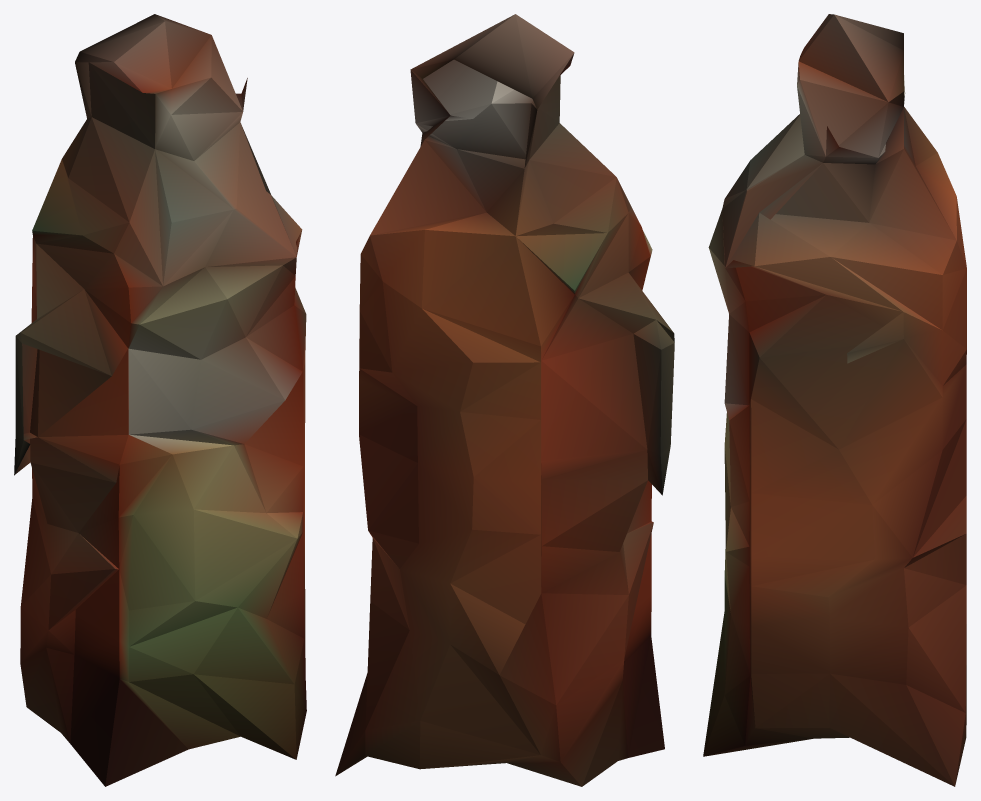
3 renders of one model, left to right at view 1: azimuth 30°, elevation 25°; view 2: azimuth 150°, elevation 25°; view 3: azimuth 270°, elevation 25°, orthographic. The views are drawn at different scales.
Size of the model in its own units: 0.7397 by 1.8 by 0.6.
